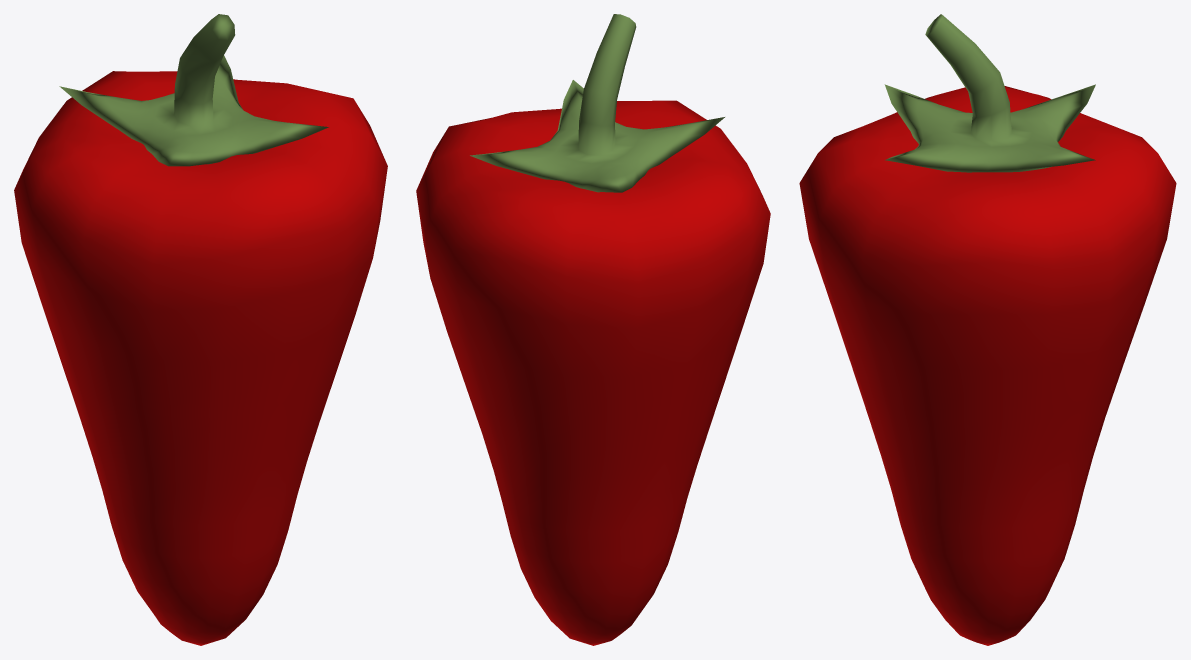
The model's file is fresh smooth pepper.fbx.
The picture shows the model from 3 angles, left to right: view 1: azimuth 30°, elevation 25°; view 2: azimuth 150°, elevation 25°; view 3: azimuth 270°, elevation 25°; orthographic projection. The views are drawn at different scales.
Visible parts, largest first — view 1: pCylinder2; view 2: pCylinder2; view 3: pCylinder2.
Boxes of the visible parts, bbox=[...] form: pCylinder2: bbox=[14, 14, 387, 645]; pCylinder2: bbox=[416, 14, 770, 645]; pCylinder2: bbox=[799, 14, 1176, 645].
Bounding box in the file's own units: 1.34 × 2.47 × 1.34.
